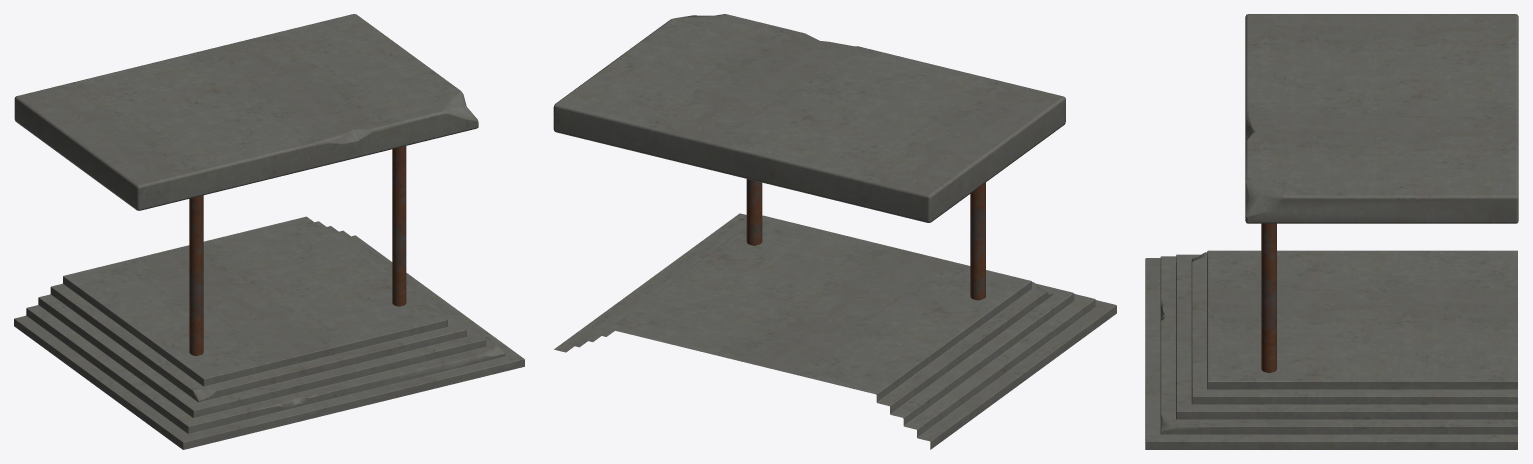
File: apartments_complex_b_entrance_b.glb
The picture shows the model from 3 angles, left to right: view 1: azimuth 30°, elevation 25°; view 2: azimuth 150°, elevation 25°; view 3: azimuth 270°, elevation 25°; orthographic projection. The views are drawn at different scales.
Visible parts, largest first — view 1: apartments_complex_b_entrance_b_LOD0; view 2: apartments_complex_b_entrance_b_LOD0; view 3: apartments_complex_b_entrance_b_LOD0.
Boxes of the visible parts, box(x1,y1,x2,y2) form: apartments_complex_b_entrance_b_LOD0: box(14, 14, 524, 449); apartments_complex_b_entrance_b_LOD0: box(553, 14, 1116, 449); apartments_complex_b_entrance_b_LOD0: box(1145, 14, 1518, 449).
Size of the model in its own units: 7 by 4.5 by 6.01.
Materials: 2 (2 with a texture image).
